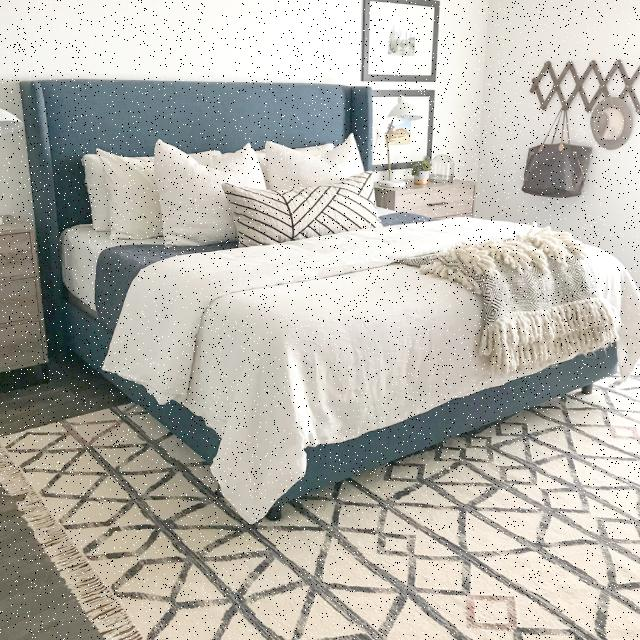bed: (26, 53, 580, 481)
